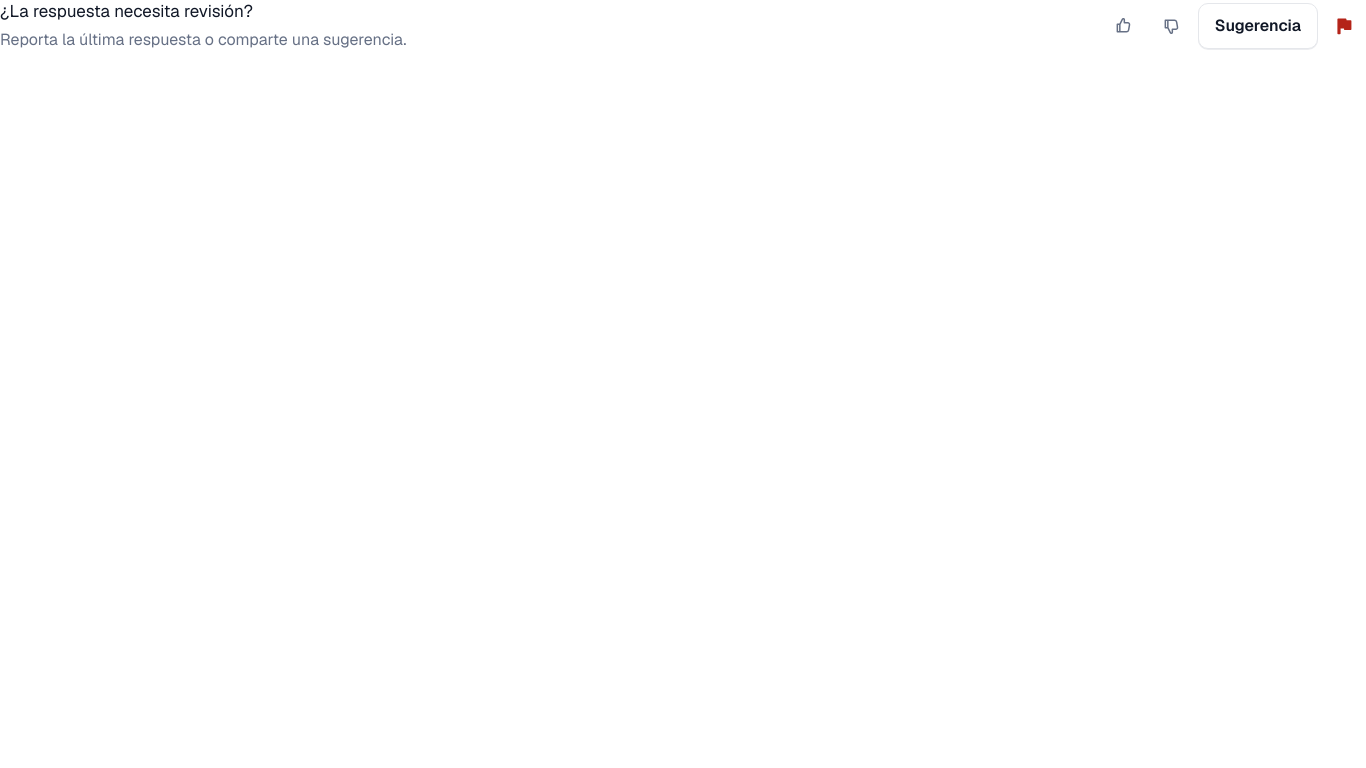
Test: ConsultationFeedback › sends only the canonical answer id with a report and confirms success
This screenshot has width=1366, height=768.
Click the button named "Reportar" at {"x": 1344, "y": 26}, box [1322,4,1365,48]
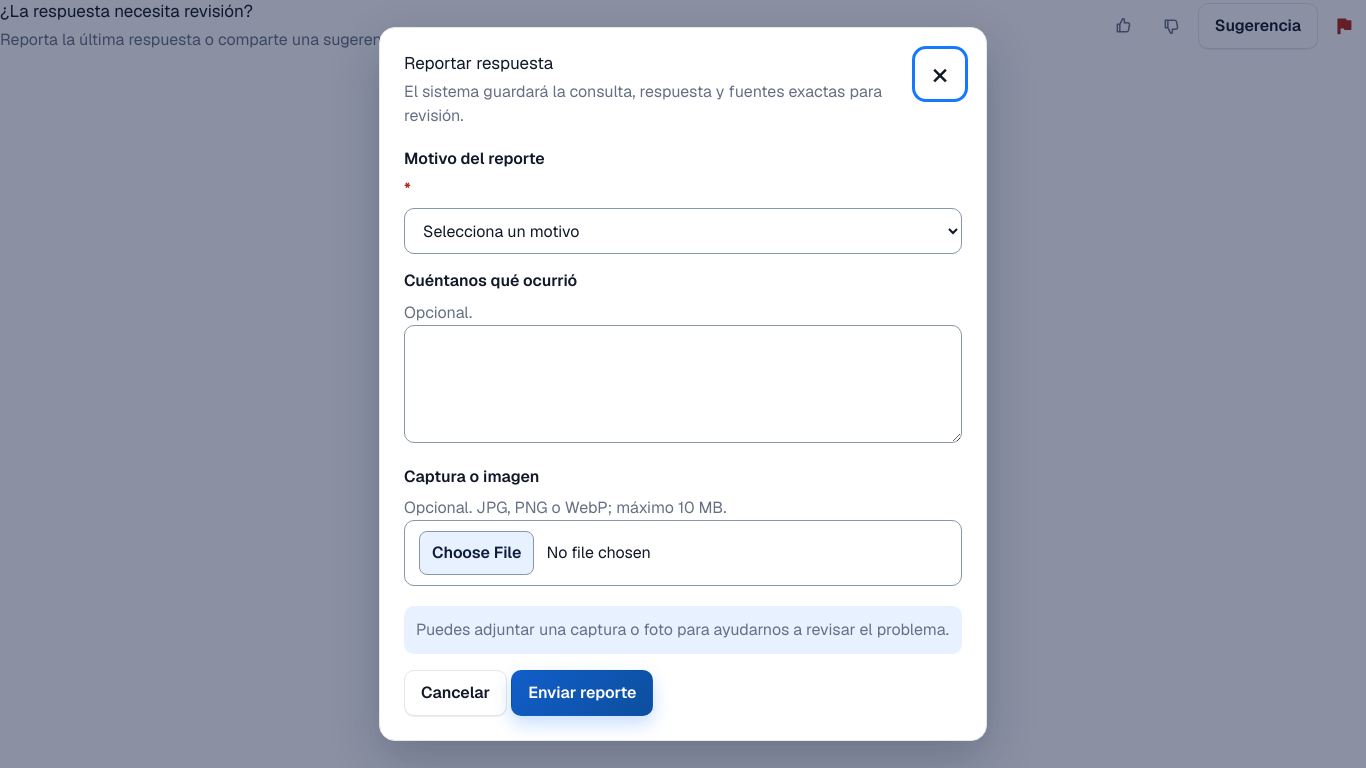
Select "La referencia no sustenta la respuesta" in the dropdown labelled "Motivo del reporte" at {"x": 683, "y": 231}, box [404,208,962,254]
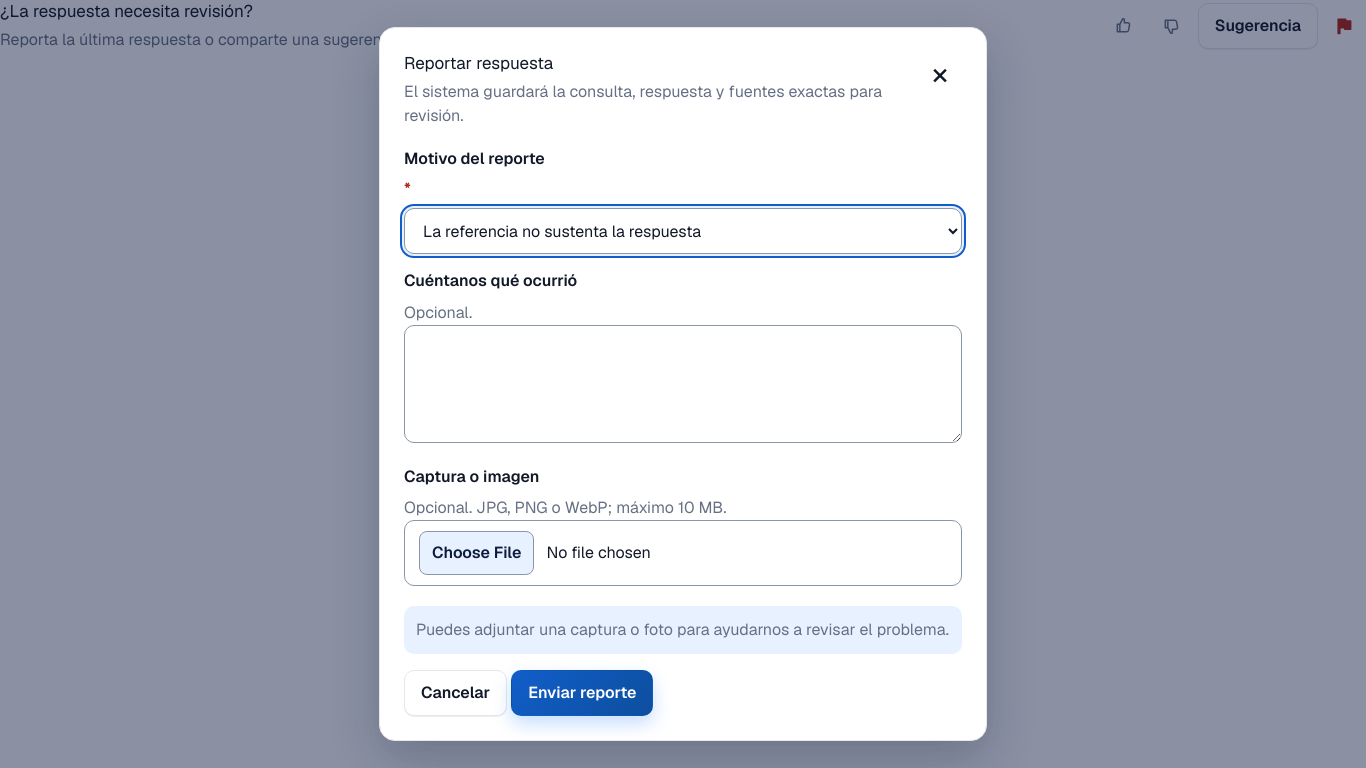
Type "La cita no coincide con la afirmación." into the text box labelled "Cuéntanos qué ocurrió" at {"x": 683, "y": 384}, box [404,325,962,443]
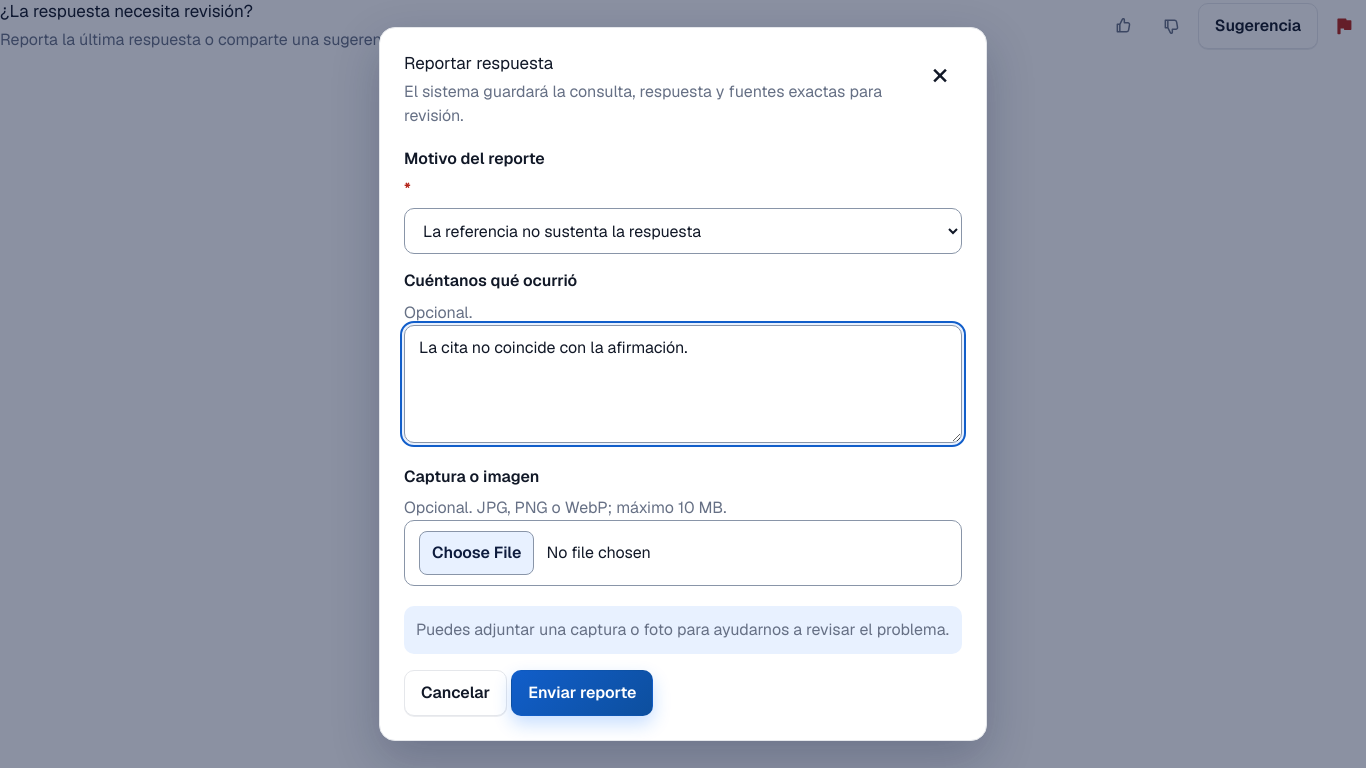
Click the button "Enviar reporte" at {"x": 582, "y": 693}, box [511,670,654,716]
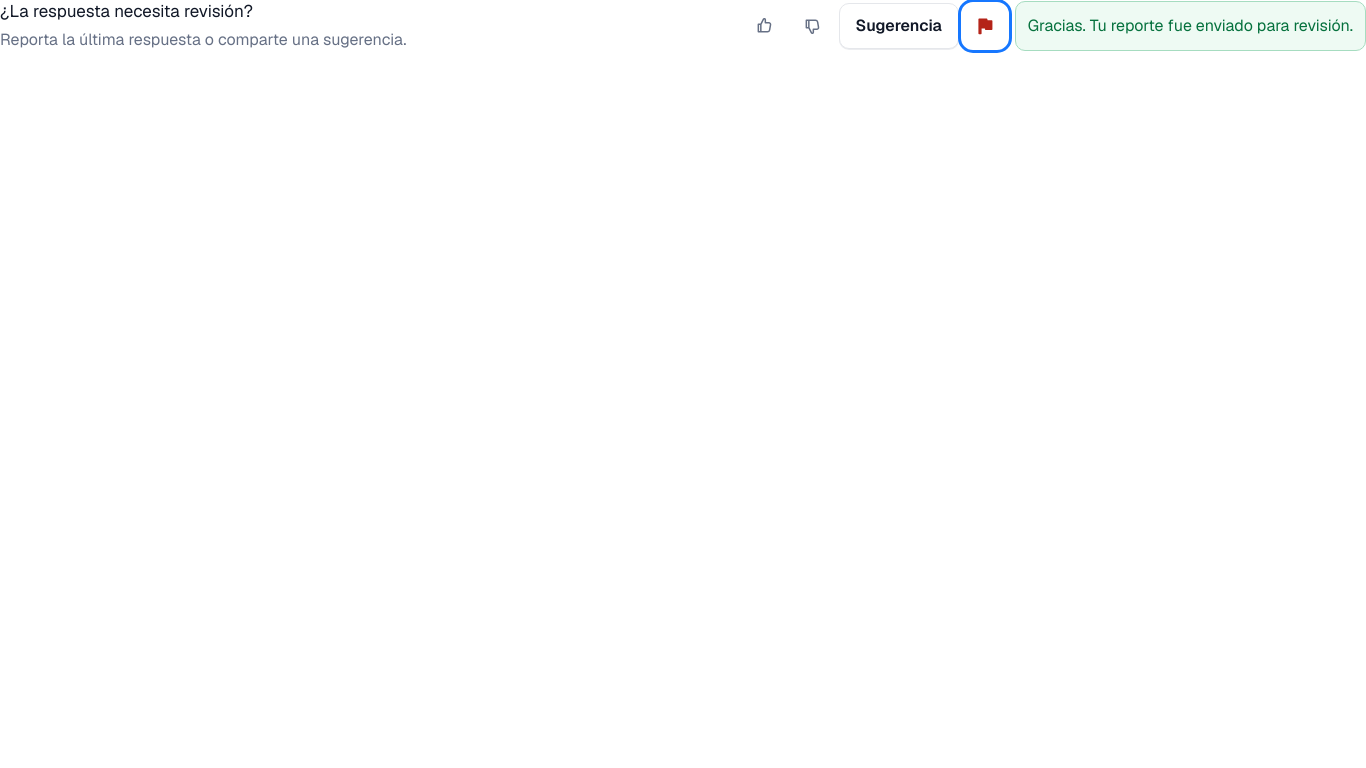
Now the text "Gracias. Tu reporte fue enviado para revisión." is shown, box [1015,1,1365,51]
Now the dialog is gone
